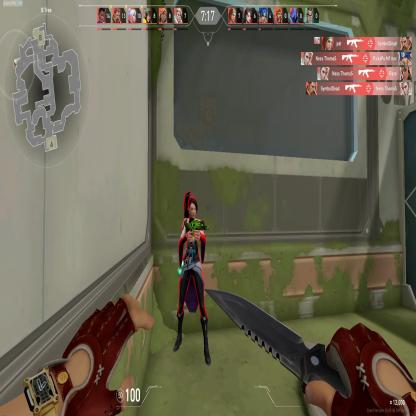enemy: (172, 187, 212, 371)
